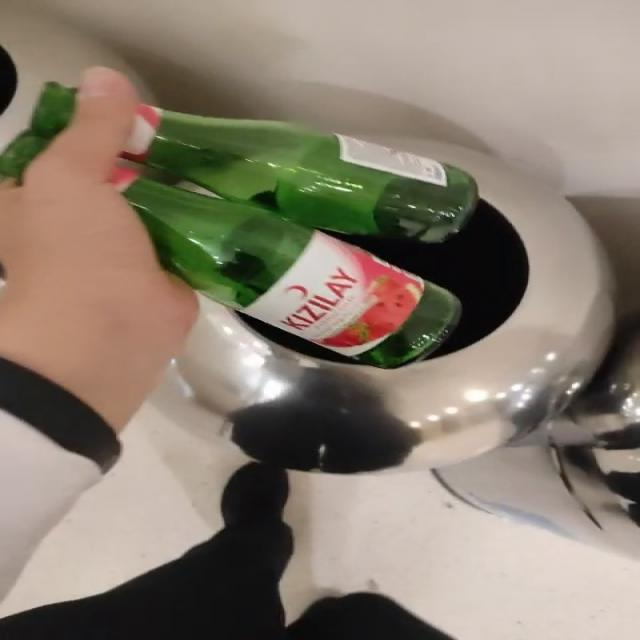Glass: (123, 108, 479, 368), (1, 82, 75, 179)
